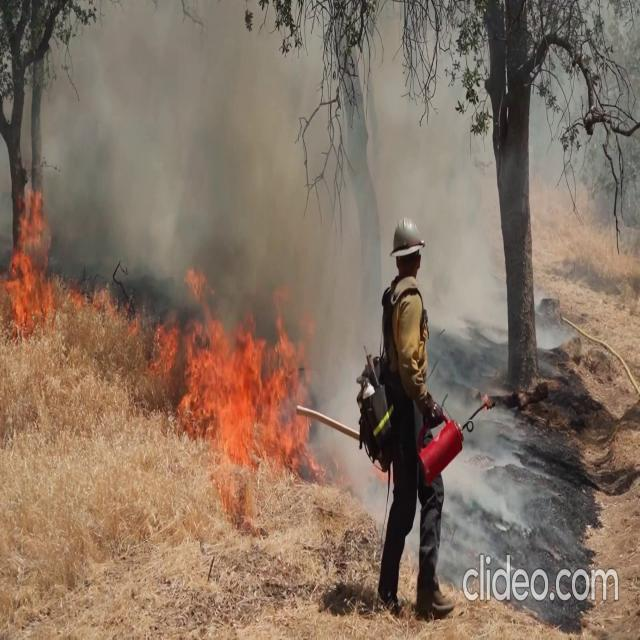Fire: (172, 306, 322, 490), (0, 170, 122, 326), (0, 172, 54, 326)
Smoke: (42, 4, 424, 314), (424, 44, 640, 372)
